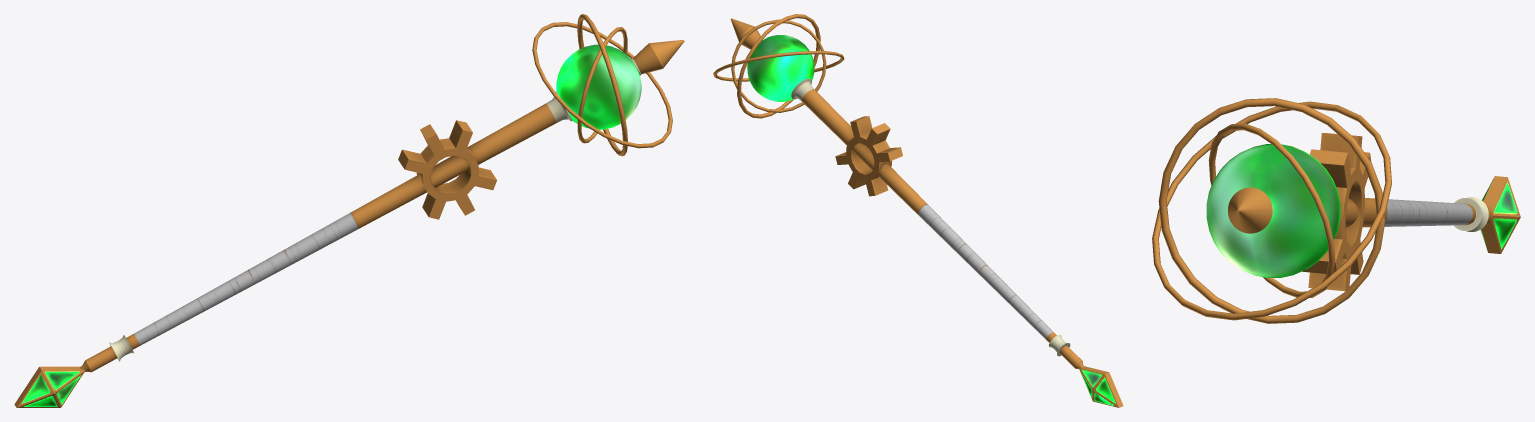
File: mage_staff.glb
The picture shows the model from 3 angles, left to right: view 1: azimuth 30°, elevation 25°; view 2: azimuth 150°, elevation 25°; view 3: azimuth 270°, elevation 25°; orthographic projection. The views are drawn at different scales.
Visible parts, largest first — view 1: magestaff_low_3, magestafftorus2_low_1, magestafftorus_low_2, magestafftorus1_low_0; view 2: magestaff_low_3, magestafftorus_low_2, magestafftorus1_low_0, magestafftorus2_low_1; view 3: magestaff_low_3, magestafftorus_low_2, magestafftorus2_low_1, magestafftorus1_low_0.
Part boxes in pixels (<box>): magestaff_low_3: <box>14,40,684,407</box>; magestafftorus2_low_1: <box>532,22,672,148</box>; magestafftorus_low_2: <box>577,14,627,156</box>; magestafftorus1_low_0: <box>577,27,627,143</box>; magestaff_low_3: <box>730,18,1123,407</box>; magestafftorus_low_2: <box>737,14,820,118</box>; magestafftorus1_low_0: <box>731,19,826,112</box>; magestafftorus2_low_1: <box>713,51,844,81</box>; magestaff_low_3: <box>1206,133,1520,291</box>; magestafftorus_low_2: <box>1158,98,1385,323</box>; magestafftorus2_low_1: <box>1152,101,1391,320</box>; magestafftorus1_low_0: <box>1208,123,1335,297</box>.
Size of the model in its own units: 1.79 by 0.9497 by 0.6227.
1 material, 1 textured.
